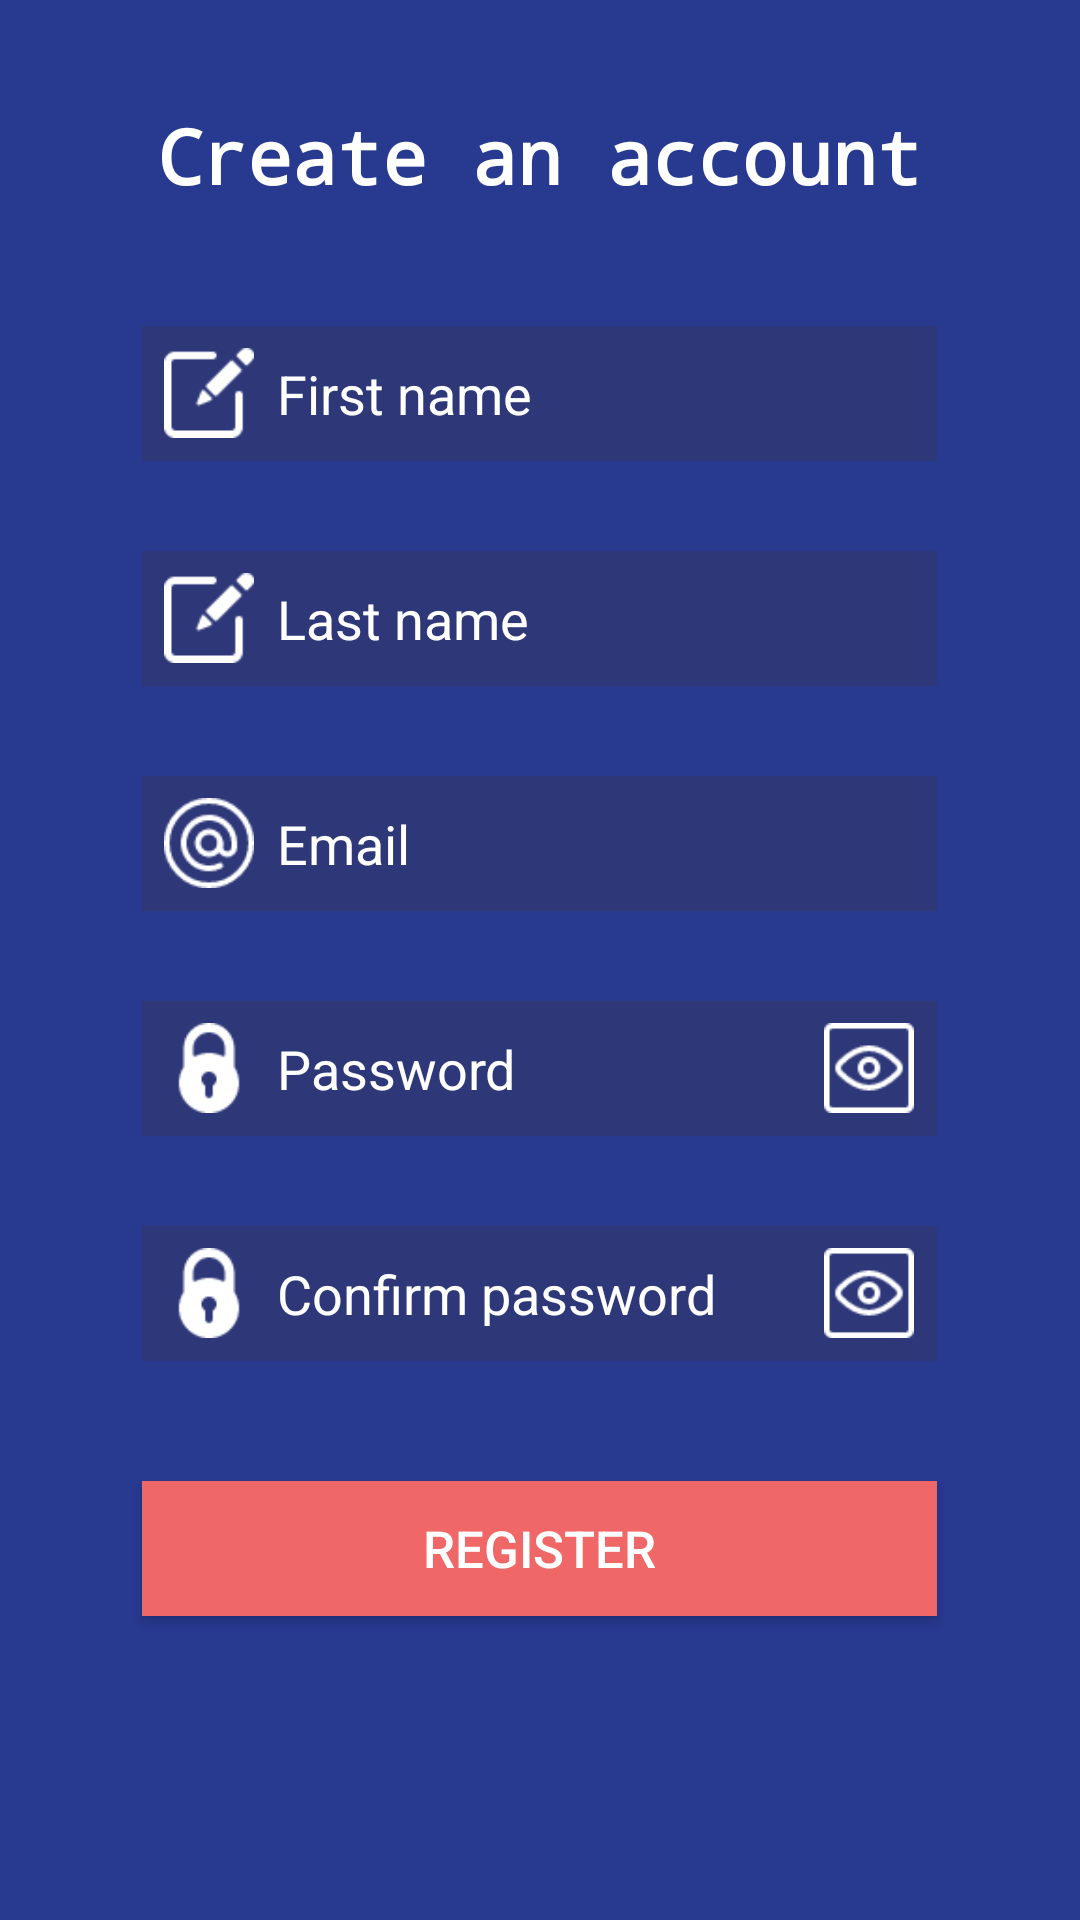

Screen size 1080 x 1920. Icon name, then its box in pixels as [x1,y1,x2,y2]:
eye: [824,1023,914,1113], [824,1248,914,1338]
lock: [178,1023,240,1113], [178,1248,240,1338]
pencil: [164,348,254,438], [164,573,254,663]
